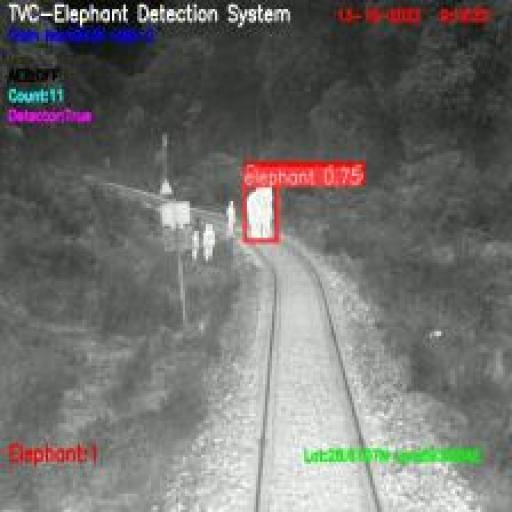Elephant: (244, 185, 278, 241)
